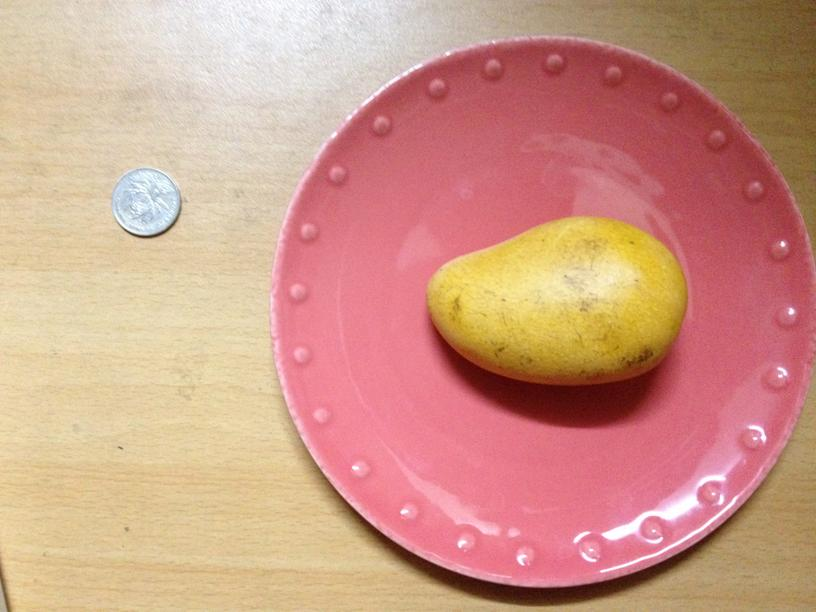coin: (111, 167, 183, 238)
mango: (424, 213, 686, 384)
